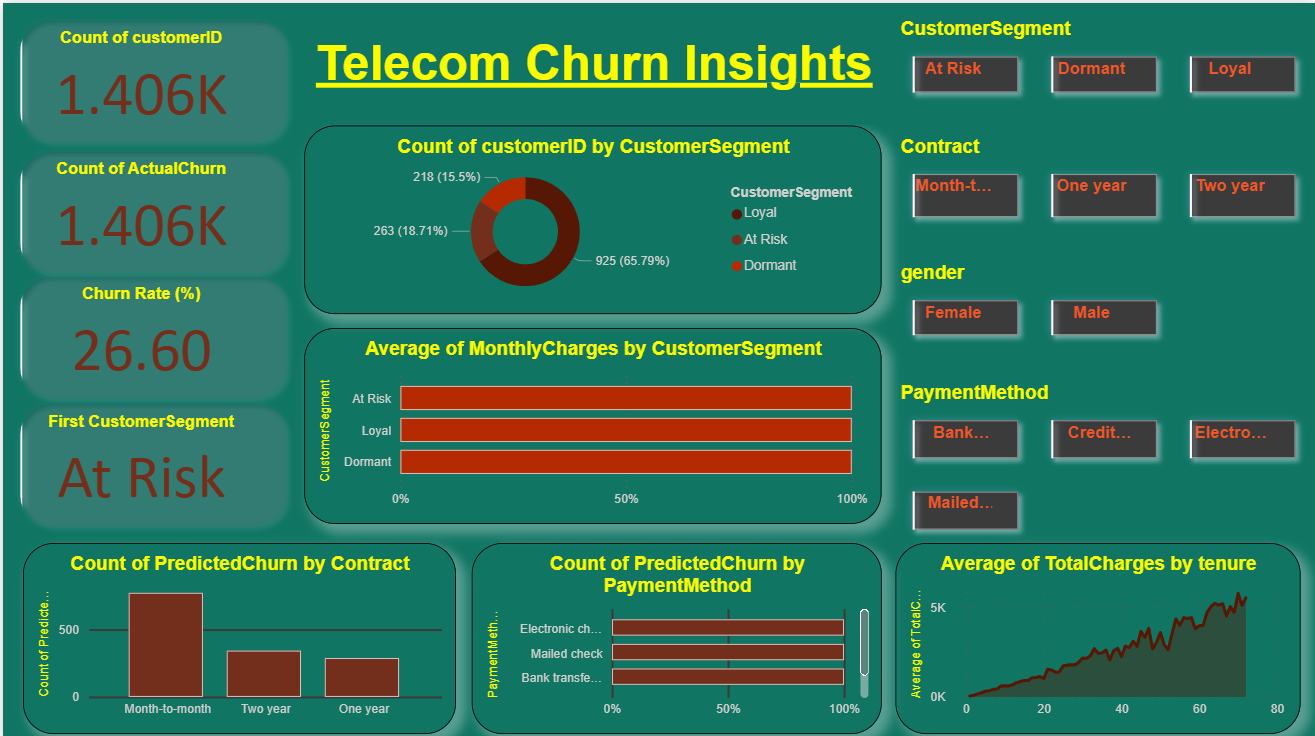

The dashboard page shown, as its layout file describes it:
{"tool":"powerbi","page":{"name":"Page 1","canvas":[1280,720],"ordinal":0},"visuals":[{"type":"cardVisual","title":"📉 Churn Rate (%)","fields":{"Data":["churn_dashboard_data.Churn Rate (%)"]},"box":[0,250,294,153],"z":0},{"type":"donutChart","fields":{"Y":["CountNonNull(churn_dashboard_data.customerID)"],"Category":["churn_dashboard_data.CustomerSegment"]},"box":[294,119,563,184],"z":1000},{"type":"clusteredColumnChart","fields":{"Category":["churn_dashboard_data.Contract"],"Y":["CountNonNull(churn_dashboard_data.PredictedChurn)"]},"box":[20,527,422,186],"z":2000},{"type":"hundredPercentStackedBarChart","fields":{"Category":["churn_dashboard_data.CustomerSegment"],"Y":["Avg(churn_dashboard_data.MonthlyCharges)"]},"box":[294,317,563,191],"z":3000},{"type":"hundredPercentStackedBarChart","fields":{"Category":["churn_dashboard_data.PaymentMethod"],"Y":["CountNonNull(churn_dashboard_data.PredictedChurn)"]},"box":[457,527,400,186],"z":4000},{"type":"areaChart","fields":{"Category":["churn_dashboard_data.tenure"],"Y":["Avg(churn_dashboard_data.TotalCharges)"]},"box":[871,527,395,186],"z":5000},{"type":"advancedSlicerVisual","fields":{"Values":["churn_dashboard_data.Contract"]},"box":[871,129,409,245],"z":6000},{"type":"advancedSlicerVisual","fields":{"Values":["churn_dashboard_data.gender"]},"box":[871,252,409,223],"z":7000},{"type":"advancedSlicerVisual","fields":{"Values":["churn_dashboard_data.PaymentMethod"]},"box":[871,370,409,231],"z":8000},{"type":"advancedSlicerVisual","fields":{"Values":["churn_dashboard_data.CustomerSegment"]},"box":[871,15,409,226],"z":9000},{"type":"textbox","box":[296,15,561,104],"z":10000},{"type":"cardVisual","title":"📉 Churn Rate (%)","fields":{"Data":["Min(churn_dashboard_data.CustomerSegment)"]},"box":[0,374,294,153],"z":11000},{"type":"cardVisual","title":"📉 Churn Rate (%)","fields":{"Data":["CountNonNull(churn_dashboard_data.ActualChurn)"]},"box":[0,128,294,153],"z":12000},{"type":"cardVisual","title":"📉 Churn Rate (%)","fields":{"Data":["CountNonNull(churn_dashboard_data.customerID)"]},"box":[0,0,294,153],"z":13000}]}

Visuals, with their boxes in screenshot pixels (x1, y1, x2, y2), scaled from the page's 1280x720 canvas onto the 1315x736 screenshot:
"📉 Churn Rate (%)" cardVisual: region(0, 256, 302, 412)
donutChart - CountNonNull(churn_dashboard_data.customerID) x churn_dashboard_data.CustomerSegment: region(302, 122, 880, 310)
clusteredColumnChart - churn_dashboard_data.Contract x CountNonNull(churn_dashboard_data.PredictedChurn): region(21, 539, 454, 729)
hundredPercentStackedBarChart - churn_dashboard_data.CustomerSegment x Avg(churn_dashboard_data.MonthlyCharges): region(302, 324, 880, 519)
hundredPercentStackedBarChart - churn_dashboard_data.PaymentMethod x CountNonNull(churn_dashboard_data.PredictedChurn): region(469, 539, 880, 729)
areaChart - churn_dashboard_data.tenure x Avg(churn_dashboard_data.TotalCharges): region(895, 539, 1301, 729)
advancedSlicerVisual - churn_dashboard_data.Contract: region(895, 132, 1314, 382)
advancedSlicerVisual - churn_dashboard_data.gender: region(895, 258, 1314, 486)
advancedSlicerVisual - churn_dashboard_data.PaymentMethod: region(895, 378, 1314, 614)
advancedSlicerVisual - churn_dashboard_data.CustomerSegment: region(895, 15, 1314, 246)
textbox: region(304, 15, 880, 122)
"📉 Churn Rate (%)" cardVisual: region(0, 382, 302, 539)
"📉 Churn Rate (%)" cardVisual: region(0, 131, 302, 287)
"📉 Churn Rate (%)" cardVisual: region(0, 0, 302, 156)
